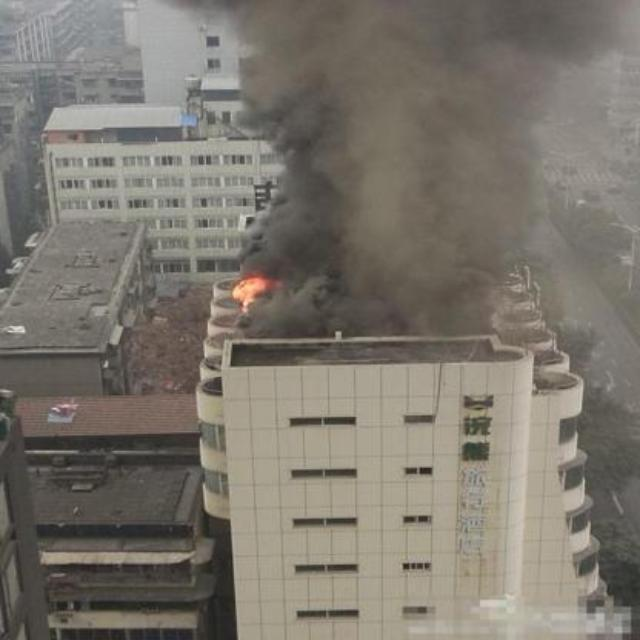Fire: (232, 268, 274, 314)
Smoke: (273, 4, 640, 341), (213, 0, 275, 270)
